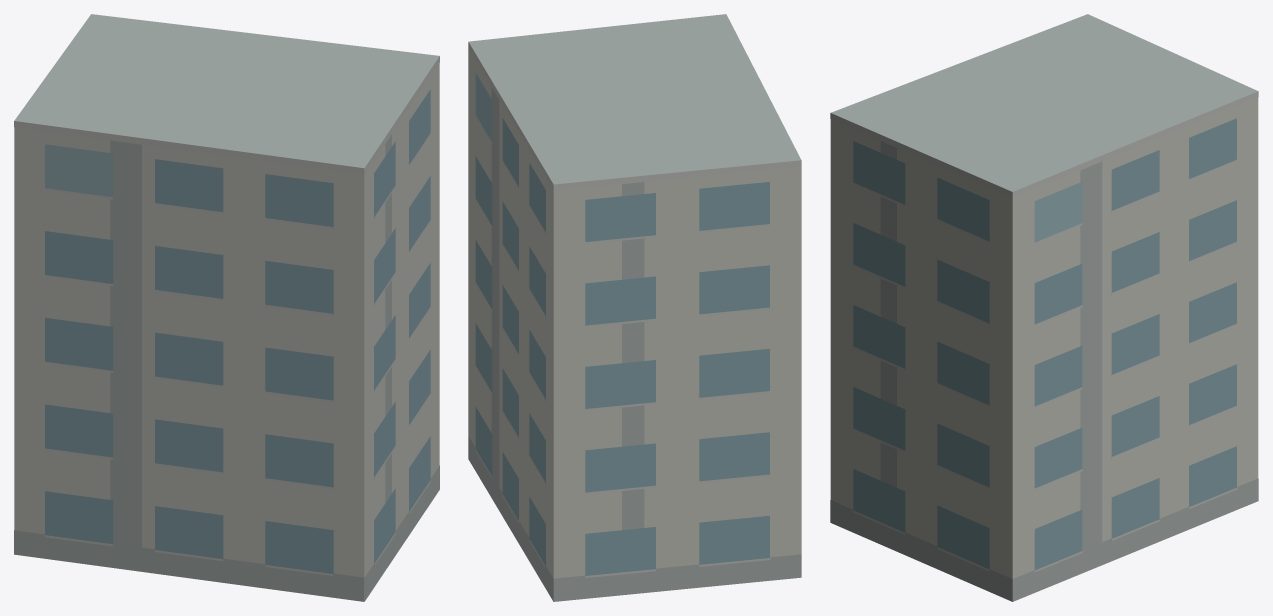
Rendered from survey-upis-32566955.glb.
The picture shows the model from 3 angles, left to right: view 1: azimuth 30°, elevation 25°; view 2: azimuth 150°, elevation 25°; view 3: azimuth 270°, elevation 25°; orthographic projection. The views are drawn at different scales.
Parts seen in each view (by area): view 1: survey-upis-32566955.tmp; view 2: survey-upis-32566955.tmp; view 3: survey-upis-32566955.tmp.
Part boxes in pixels (<box>): survey-upis-32566955.tmp: <box>14,14,439,601</box>; survey-upis-32566955.tmp: <box>468,14,801,601</box>; survey-upis-32566955.tmp: <box>830,14,1258,601</box>.
Size of the model in its own units: 15 by 16.1 by 15.24.
